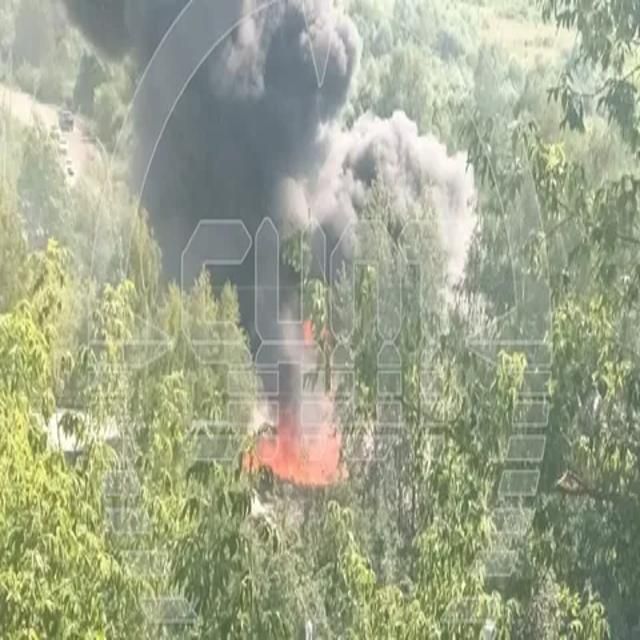Smoke: (65, 2, 478, 410)
